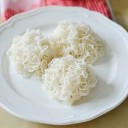idiyappam: (49, 56, 94, 105), (53, 21, 105, 63), (9, 31, 55, 76)
